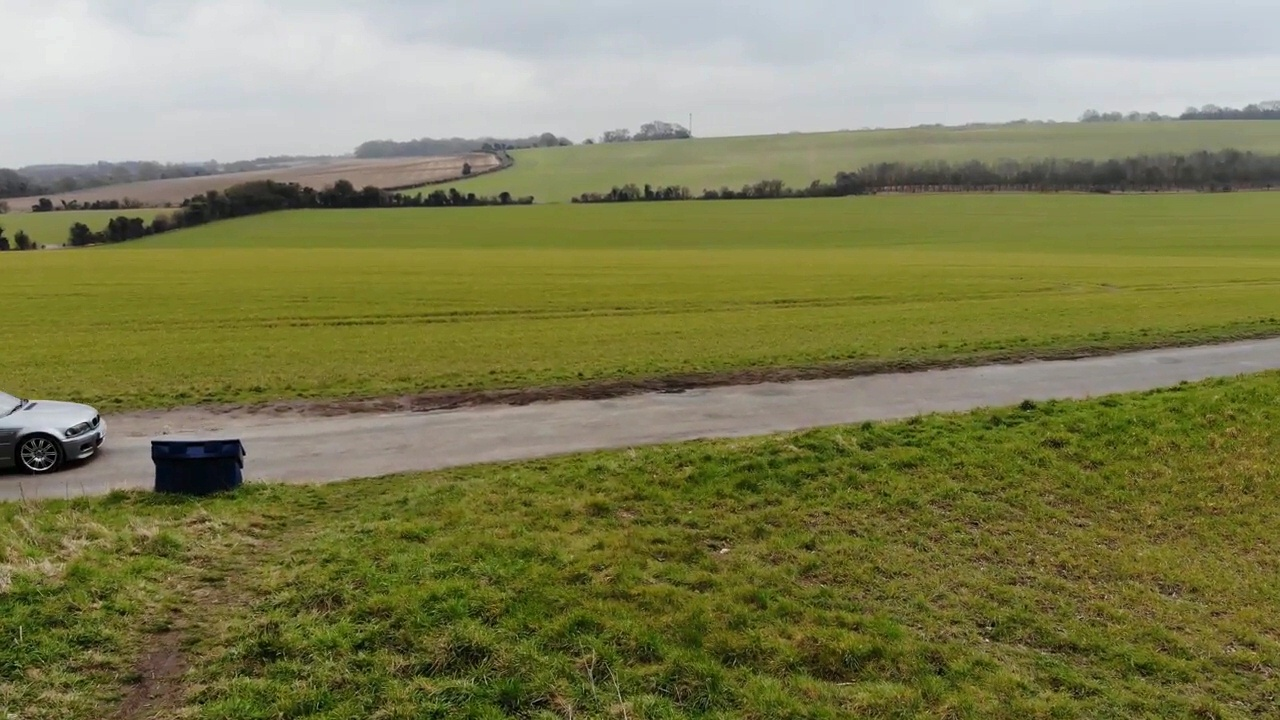araba: (1, 380, 109, 474)
